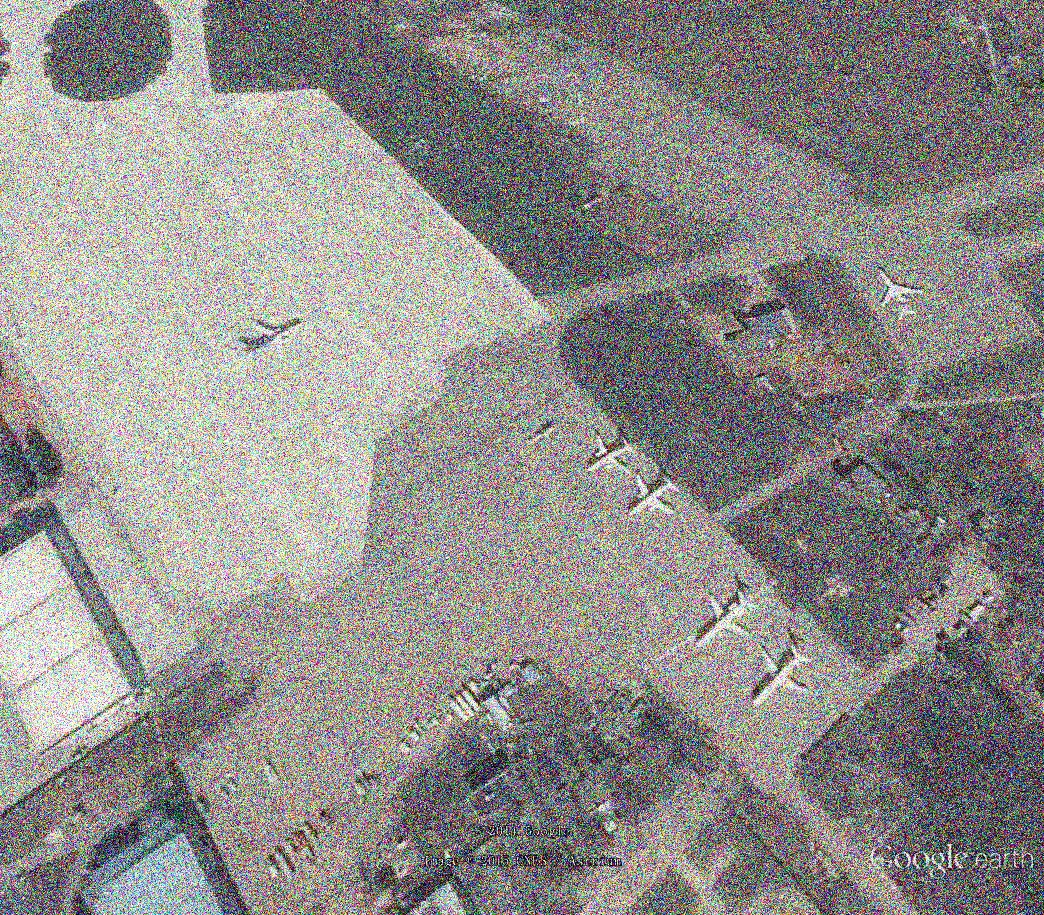aircraft: (747, 639, 811, 712), (693, 582, 759, 651), (231, 310, 309, 367), (624, 469, 684, 519), (877, 268, 924, 324), (586, 429, 637, 478), (522, 420, 558, 451)
